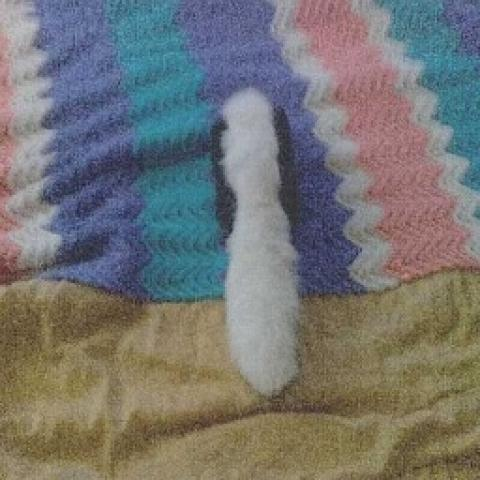small_animal: (211, 87, 299, 404)
